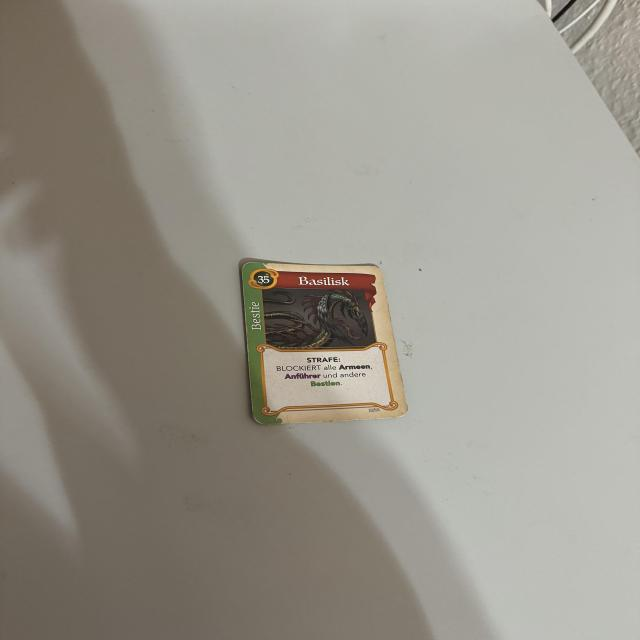Basilisk: (241, 261, 412, 426)
